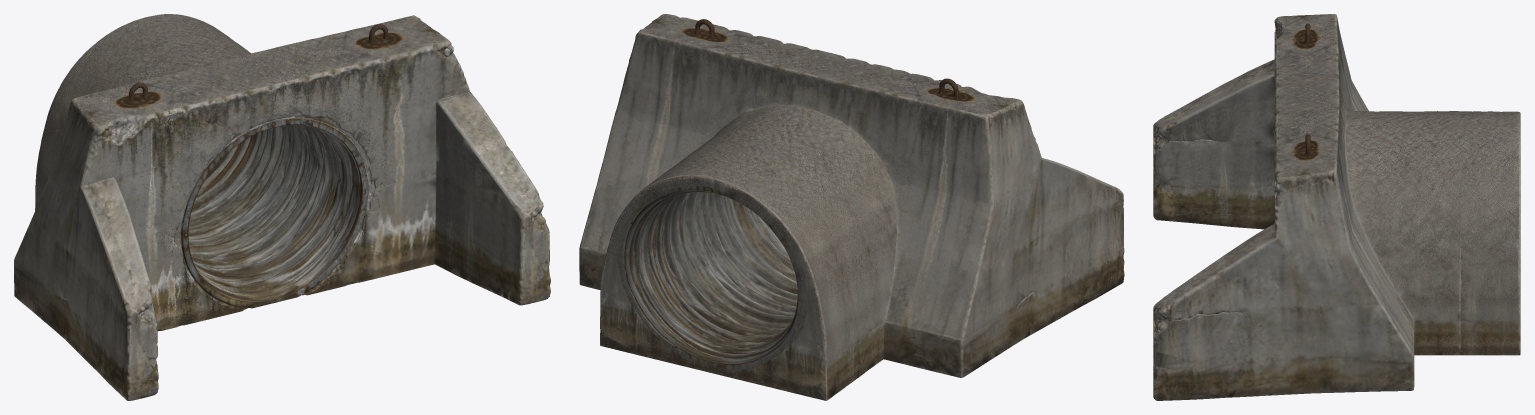
The model's file is culvert.glb.
3 views of the same model, side by side, from view 1: azimuth 30°, elevation 25°; view 2: azimuth 150°, elevation 25°; view 3: azimuth 270°, elevation 25° (orthographic). The views are drawn at different scales.
Visible parts, largest first — view 1: culvert; view 2: culvert; view 3: culvert.
Part boxes in pixels (bbox=[...]): culvert: bbox=[14, 14, 550, 400]; culvert: bbox=[579, 14, 1124, 400]; culvert: bbox=[1153, 14, 1520, 400].
Size of the model in its own units: 1.9 by 1.02 by 1.51.
Materials: 1 (1 with a texture image).
